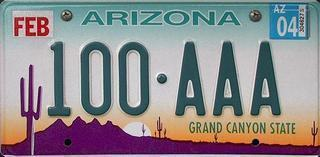placa de veiculo: (6, 0, 318, 153)
